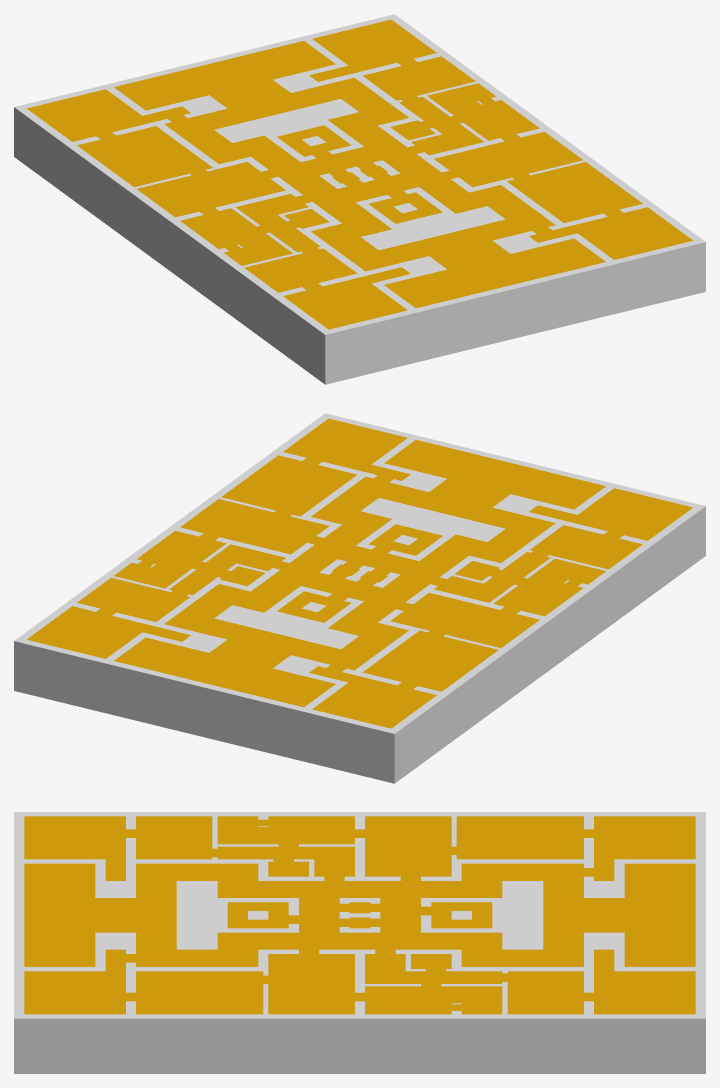
Rendered from map .glb.
3 renders of one model, top to bottom at view 1: azimuth 30°, elevation 25°; view 2: azimuth 150°, elevation 25°; view 3: azimuth 270°, elevation 25°, orthographic. The views are drawn at different scales.
Parts seen in each view (by area): view 1: 3DGeom-1, 3DGeom-3; view 2: 3DGeom-1, 3DGeom-3; view 3: 3DGeom-1, 3DGeom-3.
Boxes of the visible parts, <box> form: 3DGeom-1: <box>27,19,692,329</box>; 3DGeom-3: <box>14,14,705,384</box>; 3DGeom-1: <box>27,418,692,728</box>; 3DGeom-3: <box>14,413,705,783</box>; 3DGeom-1: <box>24,816,695,1014</box>; 3DGeom-3: <box>14,812,705,1073</box>.
Size of the model in its own units: 24 by 3 by 34.
